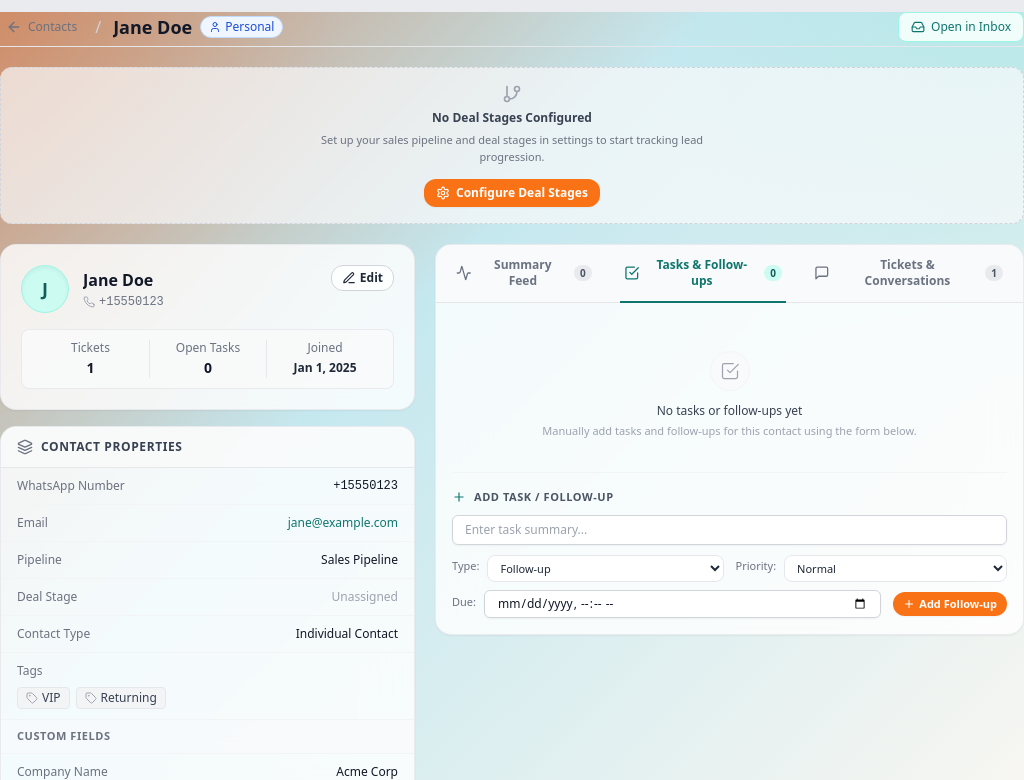
Test: ContactDetail › prevents task submit without a summary
// Click Add Follow-up without entering summary
Click the button "Add Follow-up". click: (950, 604)
box: [893,592,1007,616]
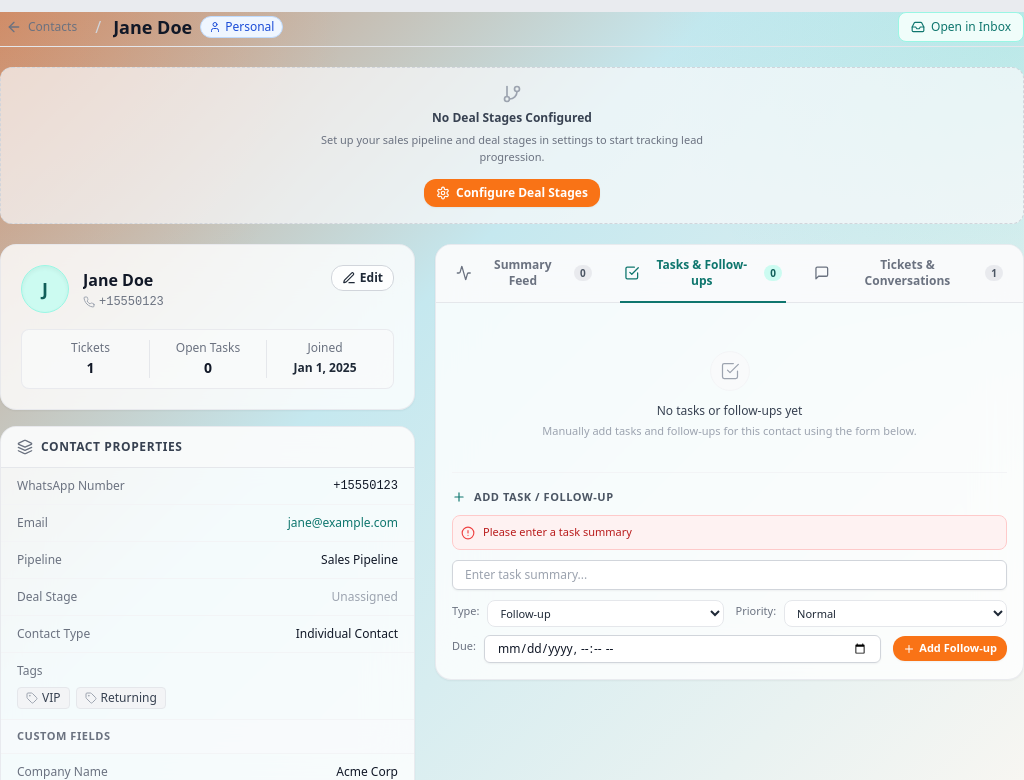
Now the text "Please enter a task summary" is shown, box [483,524,632,540]
